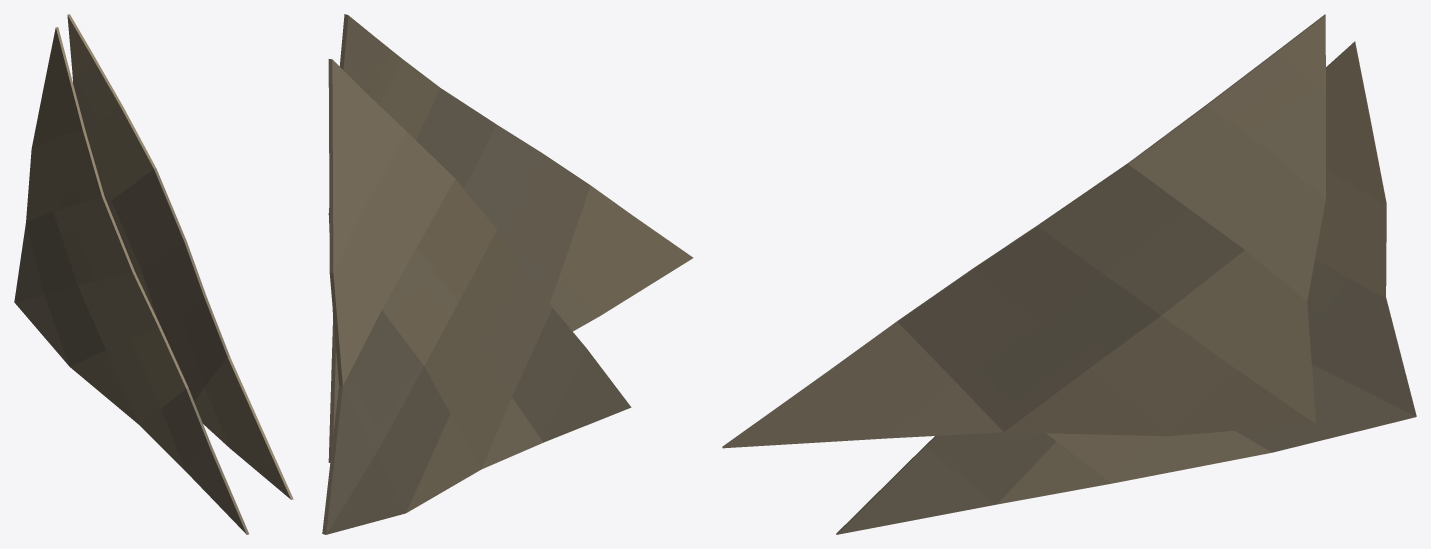
The model's file is LargeShip_2_Sails1_001.fbx.
The picture shows the model from 3 angles, left to right: view 1: azimuth 30°, elevation 25°; view 2: azimuth 150°, elevation 25°; view 3: azimuth 270°, elevation 25°; orthographic projection. The views are drawn at different scales.
Parts seen in each view (by area): view 1: LargeShip_2_Sails1.001; view 2: LargeShip_2_Sails1.001; view 3: LargeShip_2_Sails1.001.
Boxes of the visible parts, x1,y1,x2,y2 form: LargeShip_2_Sails1.001: [14, 14, 293, 534]; LargeShip_2_Sails1.001: [322, 14, 693, 534]; LargeShip_2_Sails1.001: [722, 14, 1416, 534].
Size of the model in its own units: 110 by 1048 by 1265.
